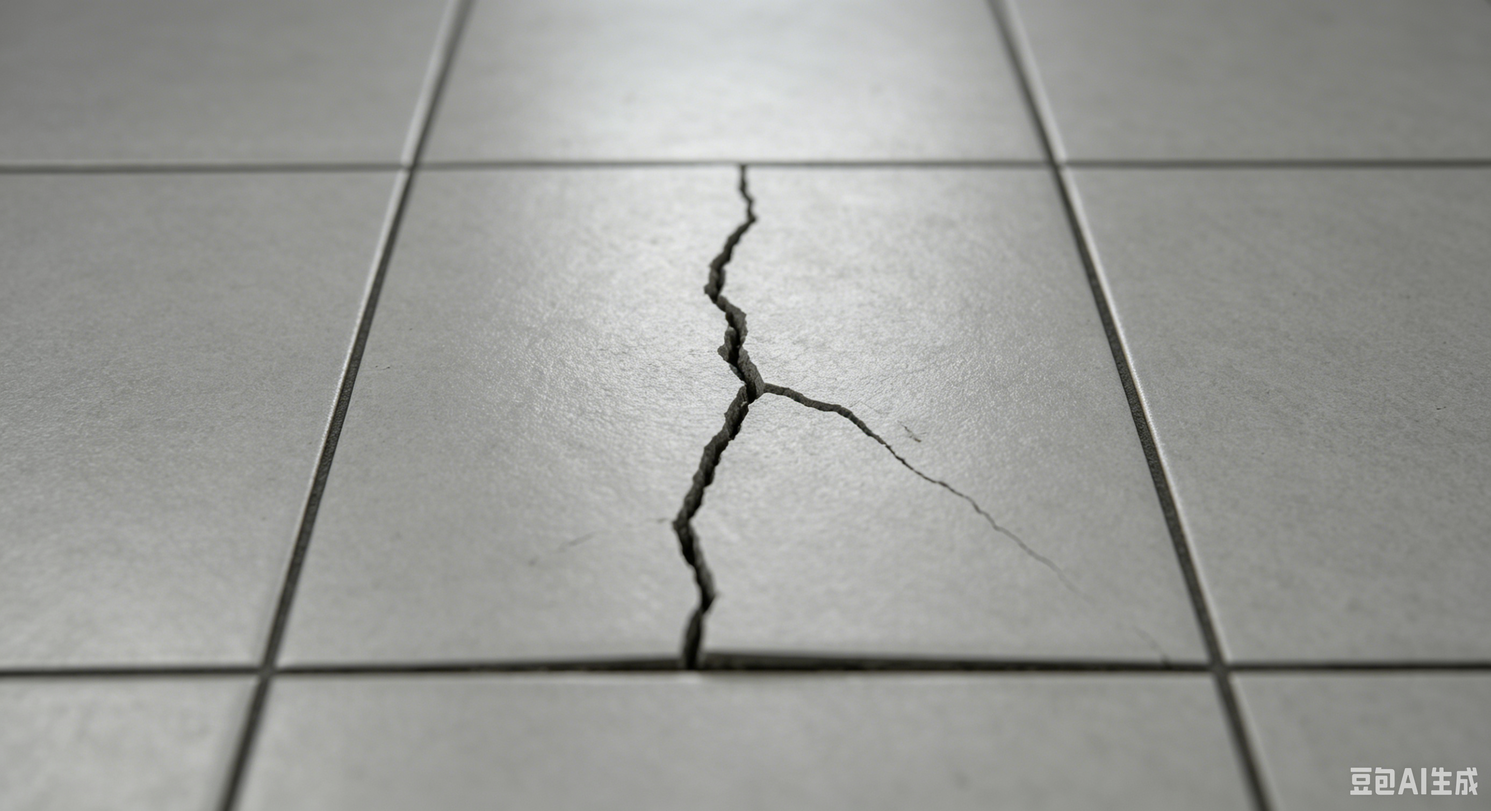floor_defect: (658, 143, 801, 680), (497, 602, 1064, 705), (786, 361, 999, 538)
